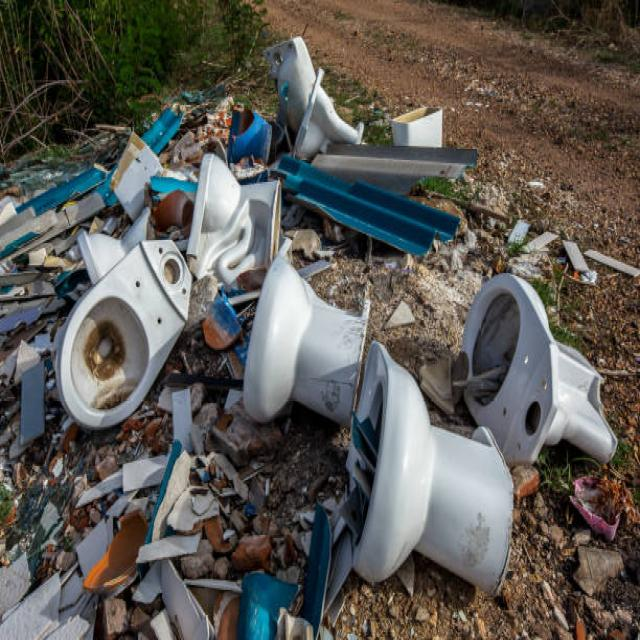trash: (17, 48, 620, 620)
